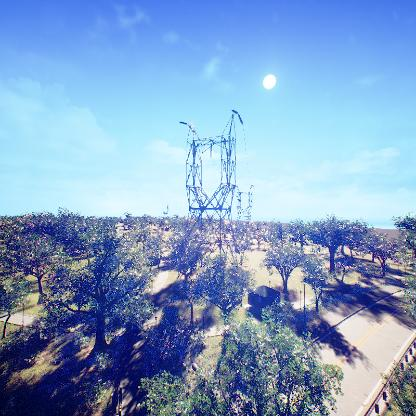tower: (176, 109, 247, 279)
